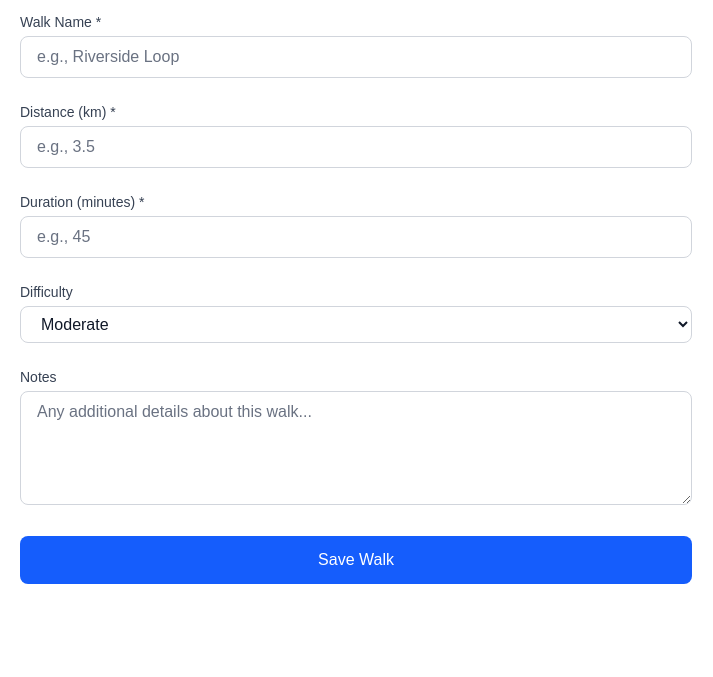
AddWalkForm › Validation › shows error when name is empty and form is submitted
This screenshot has width=713, height=677.
Note: Submit without filling name
Click the button "Save Walk": (356,560) x1=20 y1=536 x2=692 y2=584
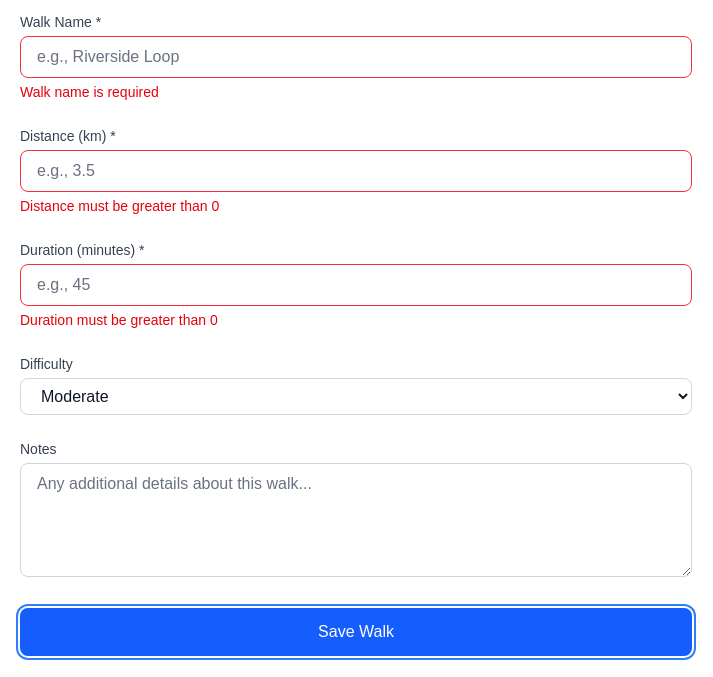
Expected: the text "Walk name is required" is shown, x1=20 y1=84 x2=159 y2=100
